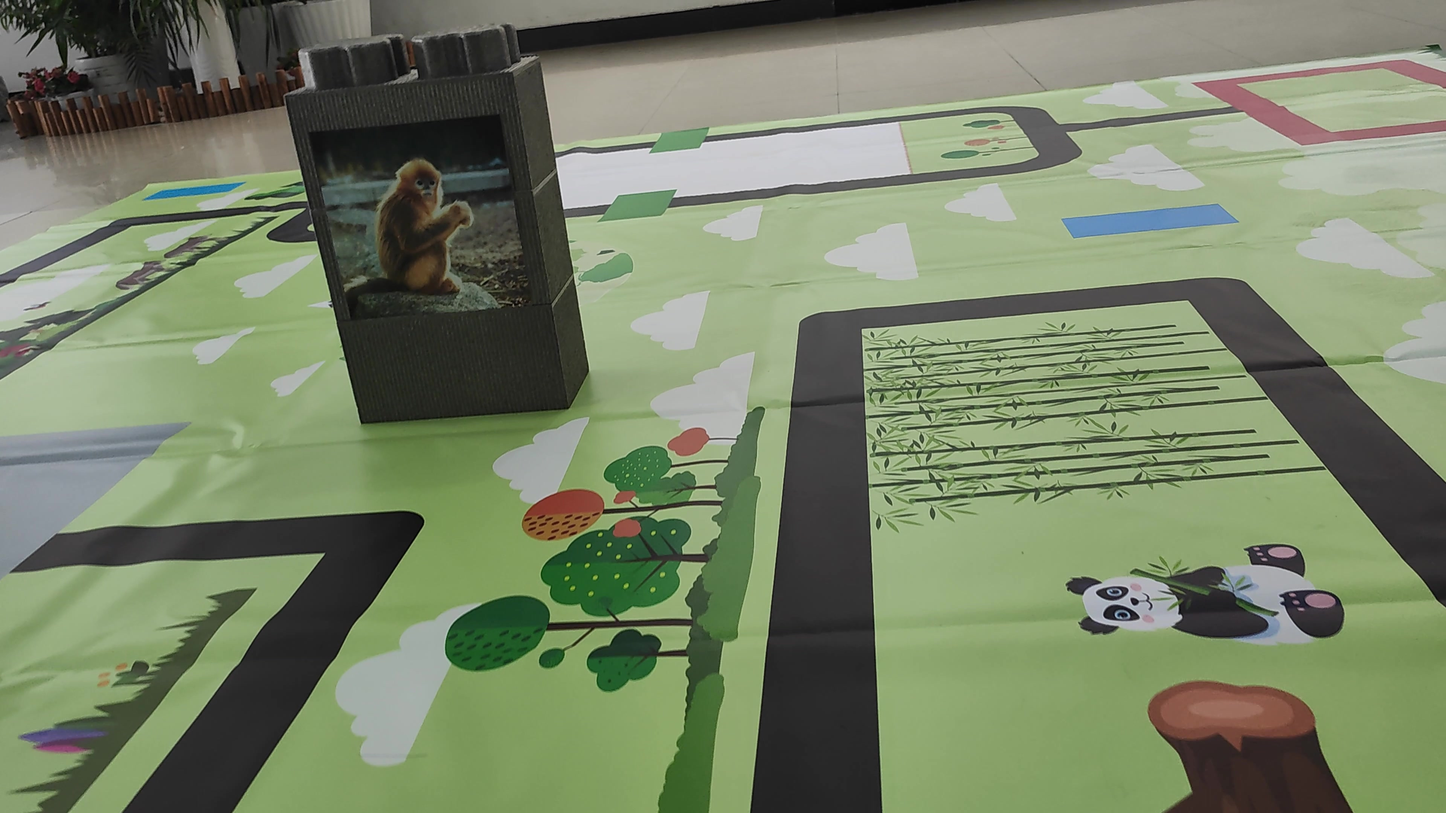monkey: (344, 147, 493, 311)
